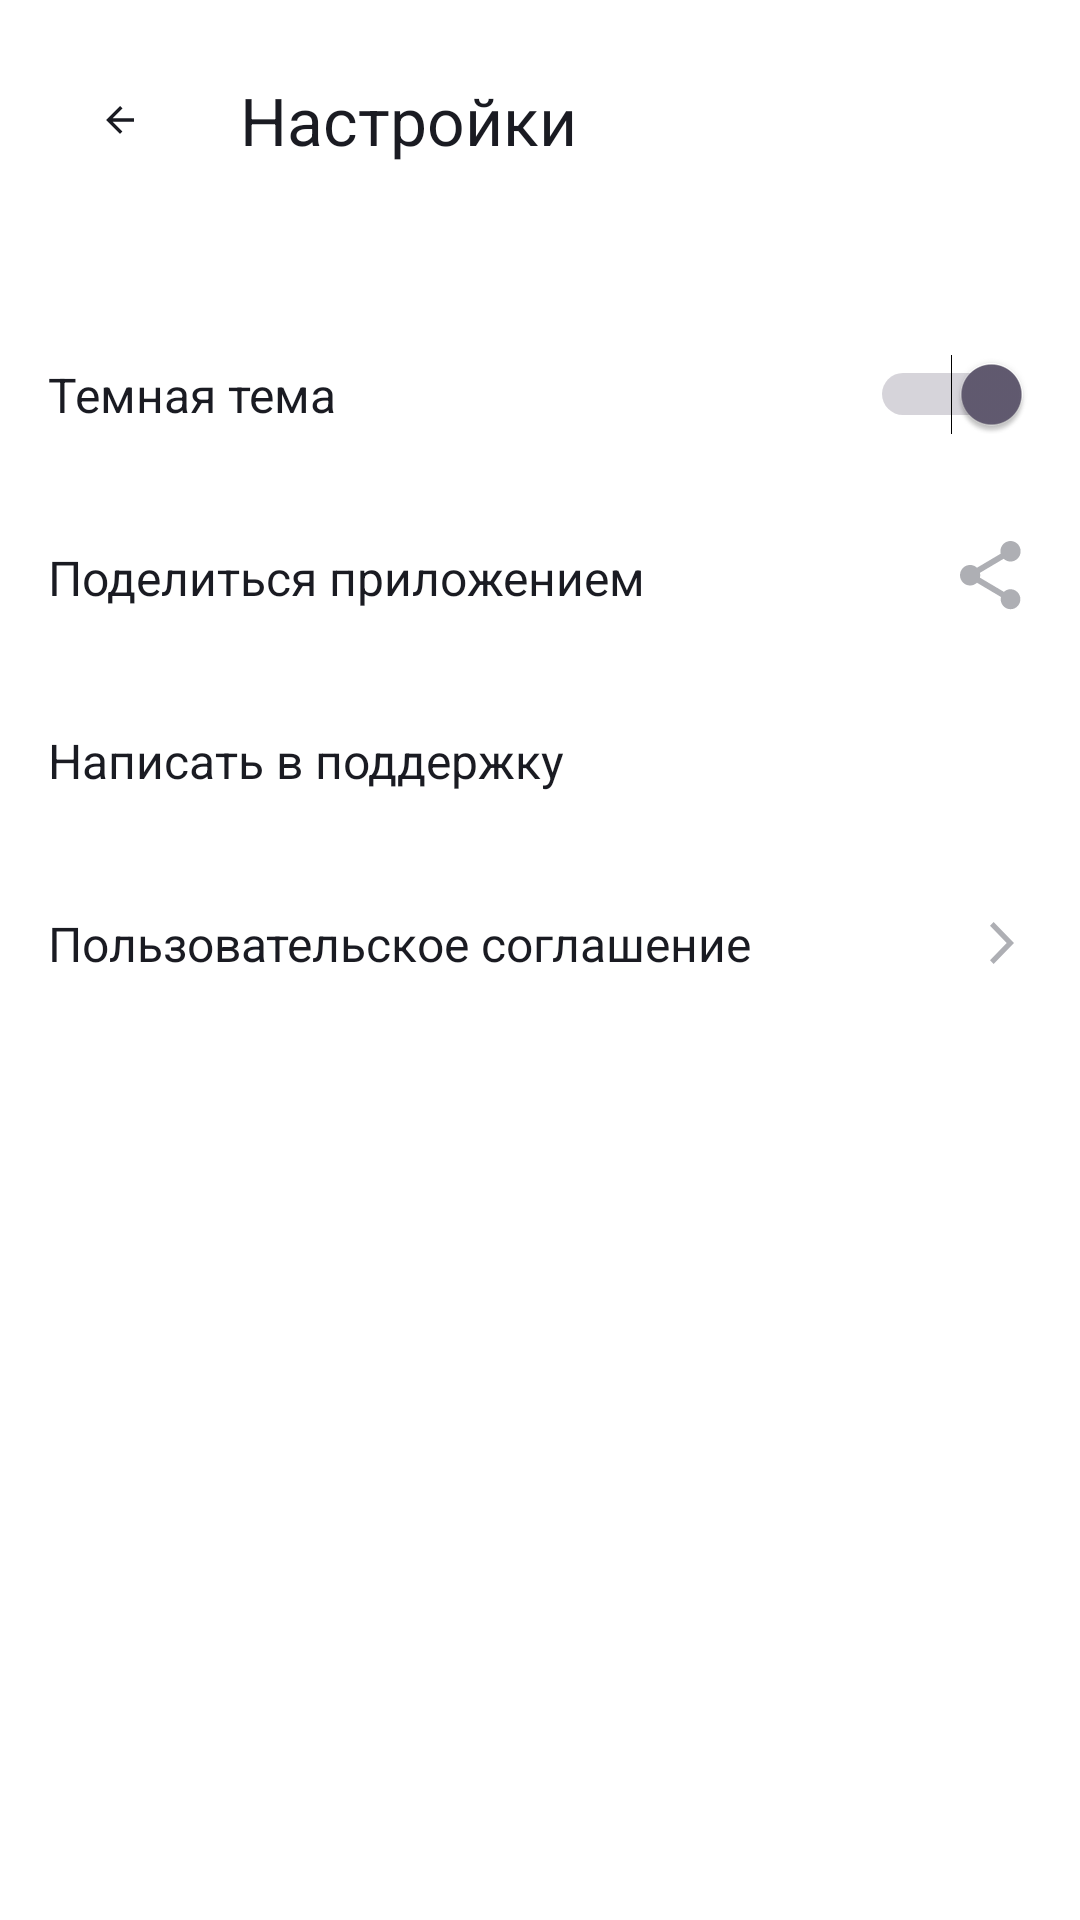

Screen size 1080×1920. Icon name, then its box in pixels as (left=x1, top=y1, right=x2, bottom=y2):
arrow back: (left=106, top=106, right=134, bottom=134)
arrow forward: (left=990, top=922, right=1014, bottom=964)
share: (left=960, top=541, right=1021, bottom=609)
